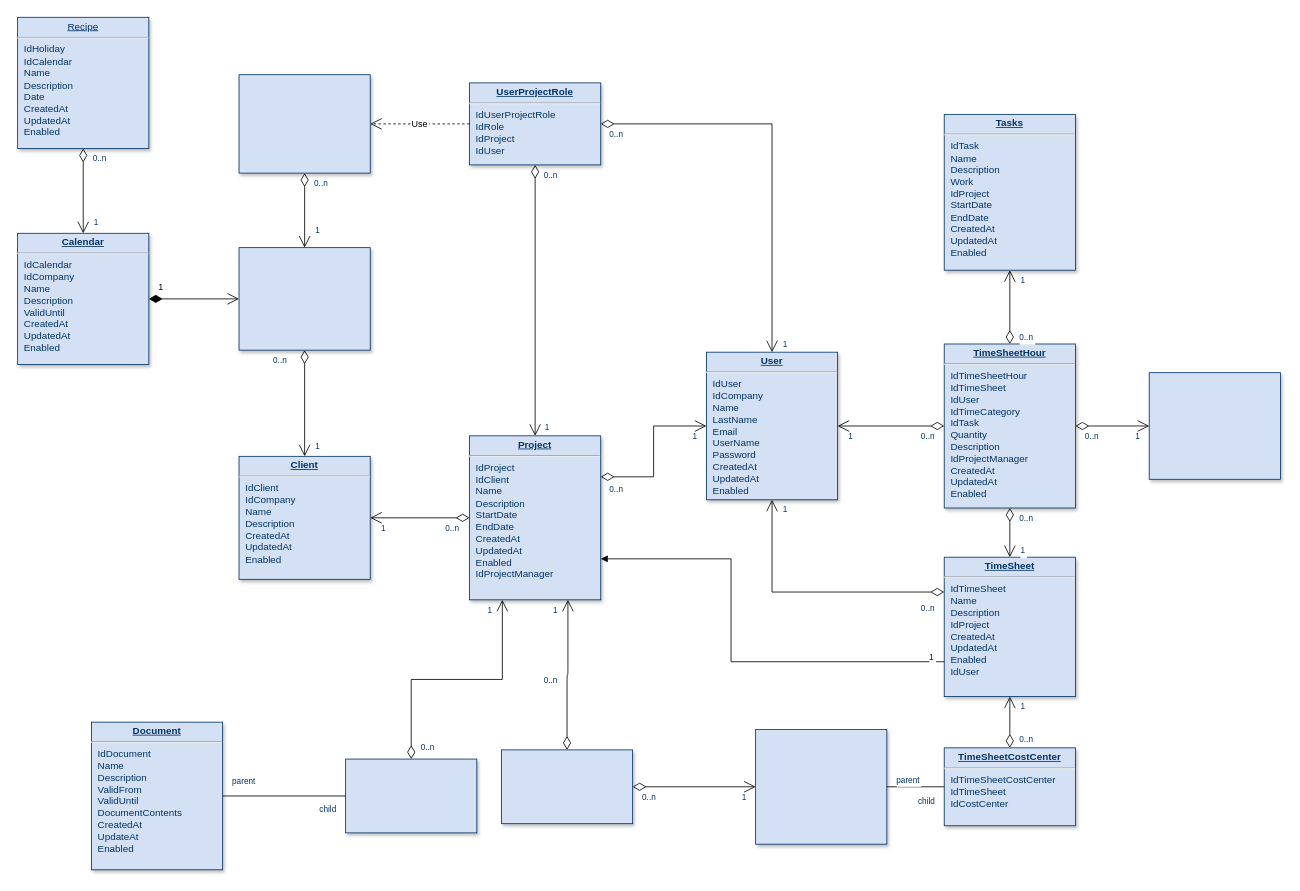
Image size: 1300x891. Some labels were removed from this diagram. The centre of each missing label's shape, as x and y in pixels:
"Company Name Description CreatedAt UpdatedAt Enabled" goes at (305,300).
"CostCenter IdCostCenter Name Description CreatedAt UpdatedAt Enabled" goes at (822,787).
"ProjectCostCenter IdProjectCostCenter IdProject IdCostCenter" goes at (567,787).
"ProjectDocument IdProjectDocument IdProject IdDocument" goes at (412,797).
"Role IdCompany Name Description CreatedAt UpdatedAt Enabled" goes at (305,125).
"TimeCategory IdTimeCategory Name Description CreatedAt UpdatedAt Enabled" goes at (1215,427).
